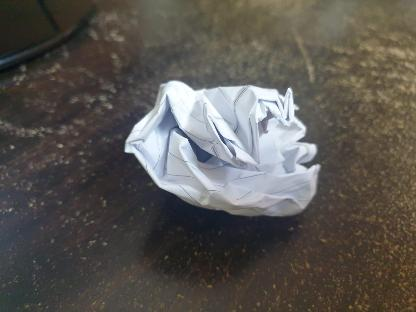Paper: (120, 74, 330, 220)
